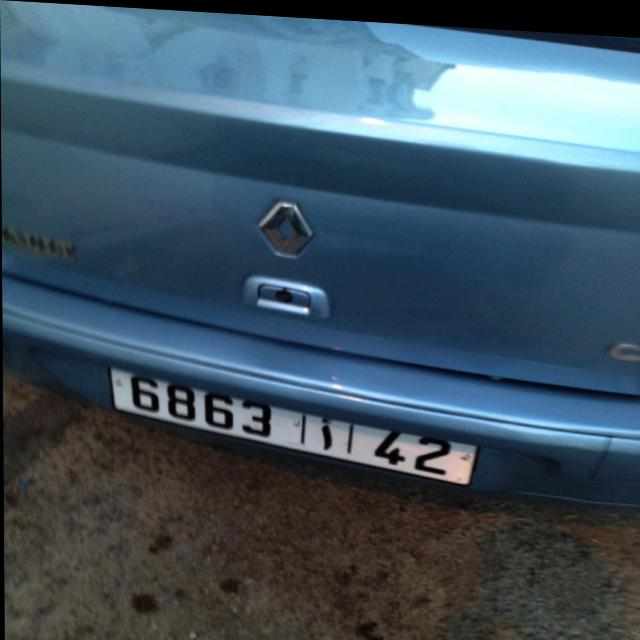License-Plate: (109, 366, 477, 479)
